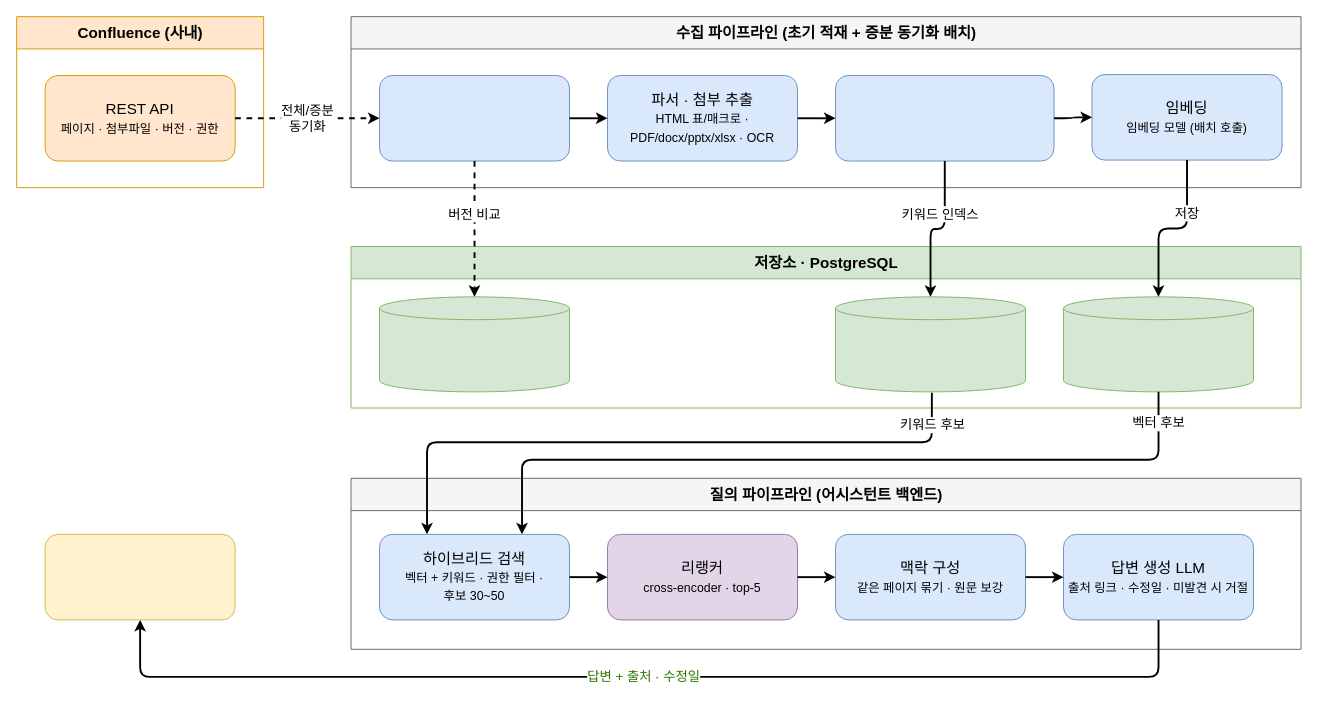
This 1318x702 diagram has some shape labels left out. The centre of each missing label's shape, as x and y in pixels:
pgvector 청크 테이블 본문 · 임베딩 · 메타 · 권한 그룹: the point at 1158,344
동기화 상태 페이지 id · 버전 · 해시: the point at 474,344
동기화 워커 공간 단위 · 버전 비교: the point at 474,118
사용자 사내 어시스턴트 UI: the point at 139,576
전문검색 인덱스 tsvector / BM25 (같은 청크): the point at 930,344
청킹 헤딩 단위 + 경로 접두 · 메타·권한 부착: the point at 944,118
